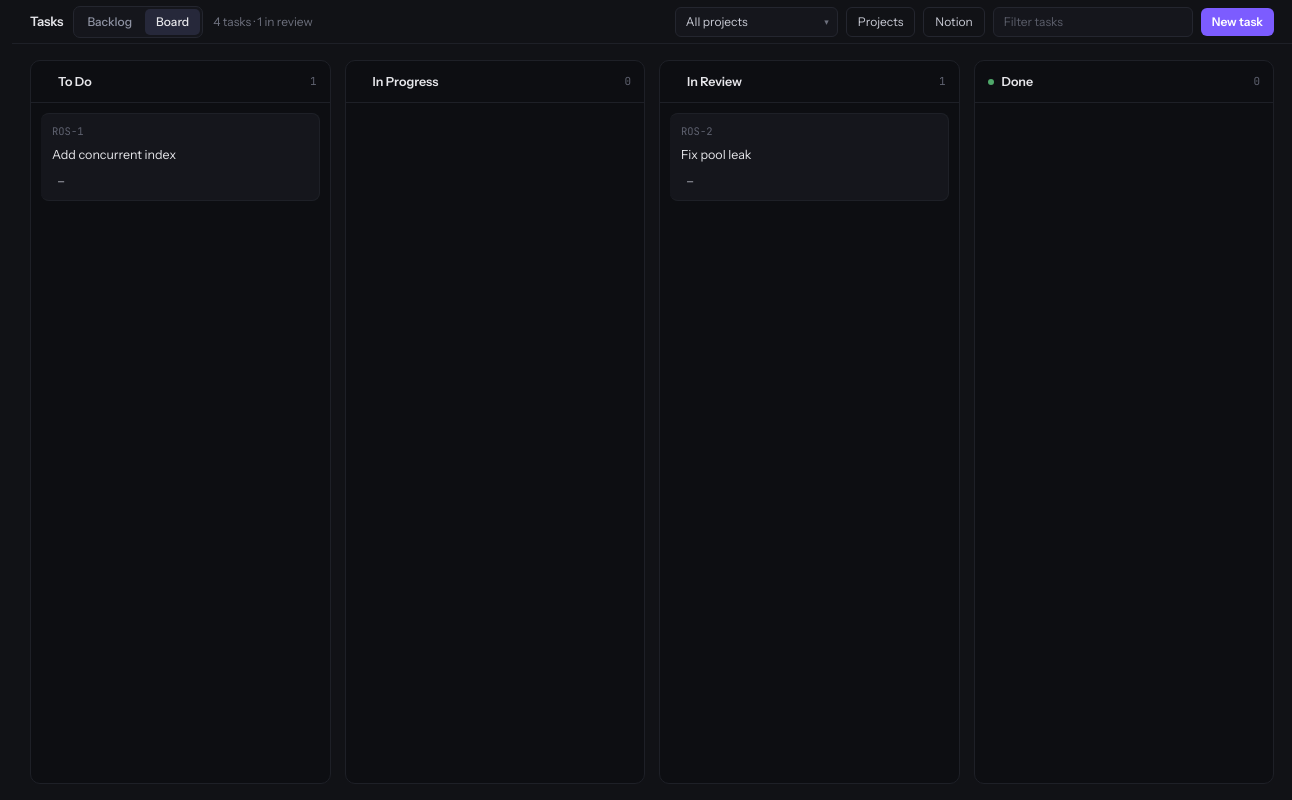
the Tasks view switcher › switching hides the board and shows the list
Click the tab "Backlog": [110, 22] box 76,8 -> 143,34
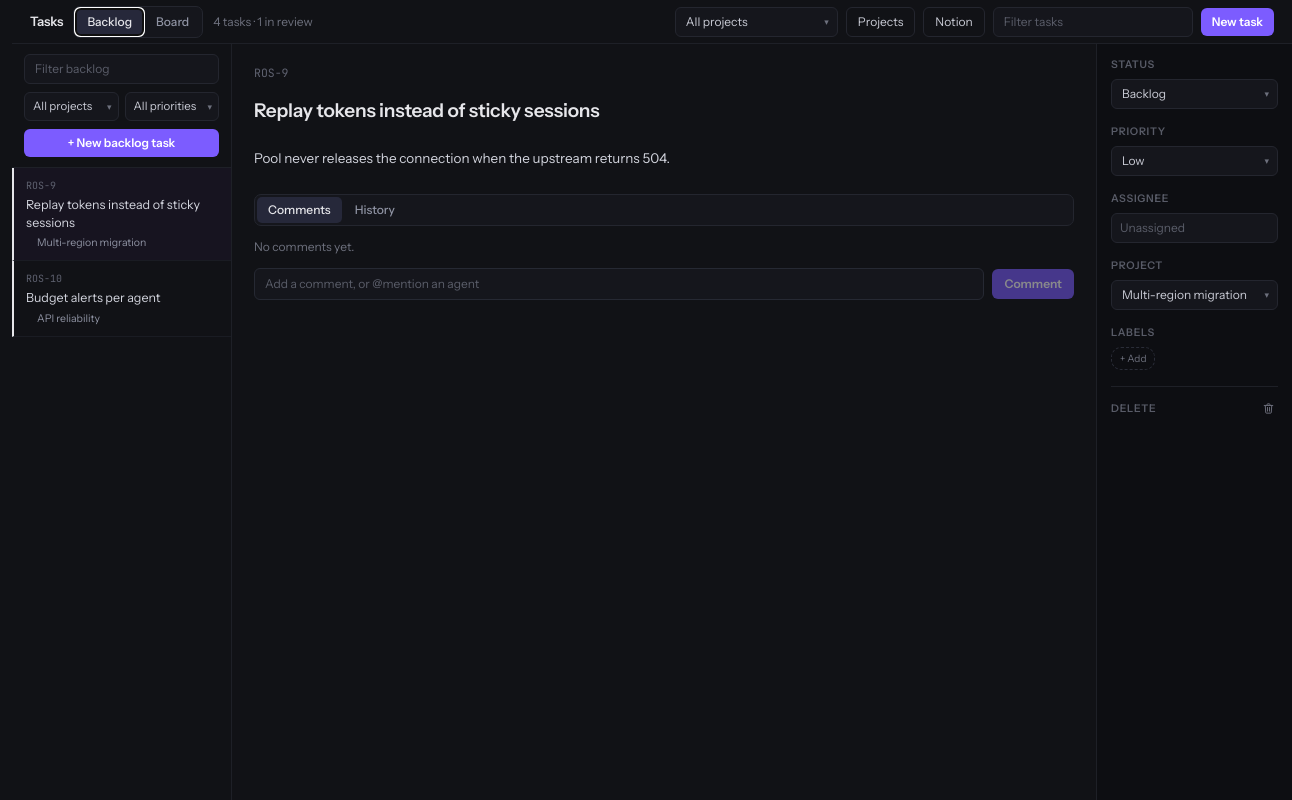
Expected: the heading "To Do" is gone
Expected: the list named "Backlog" is shown, 12,168 -> 231,337
